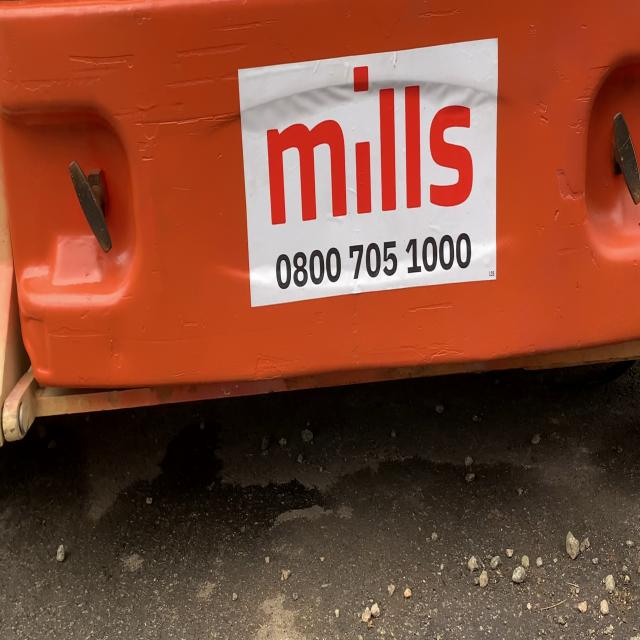Adesivos: (233, 28, 502, 316)
